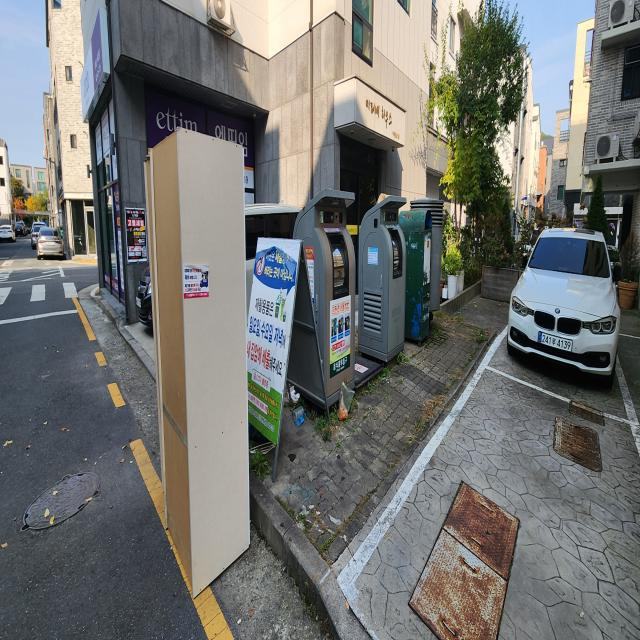CleanNet: (290, 166, 358, 410), (360, 187, 404, 378)
Large Waste Items: (146, 125, 245, 592)
